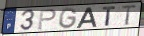3: (19, 8, 36, 32)
A: (76, 7, 98, 29)
G: (58, 7, 78, 30)
P: (37, 9, 57, 31)
T: (121, 4, 139, 27), (101, 6, 117, 27)
